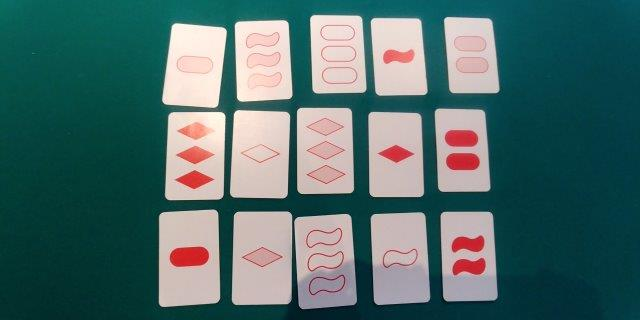1ED: (235, 112, 284, 194)
1EW: (375, 215, 422, 301)
1FD: (372, 115, 418, 192)
1FP: (161, 213, 215, 301)
1FW: (377, 19, 418, 93)
1HD: (237, 214, 286, 300)
1HP: (172, 29, 217, 103)
2FP: (440, 111, 484, 187)
2FW: (444, 213, 491, 299)
2HP: (450, 21, 491, 87)
3EP: (315, 17, 360, 90)
3EW: (300, 218, 350, 302)
3FD: (170, 114, 219, 195)
3HD: (299, 110, 351, 190)
3HW: (238, 23, 286, 97)
